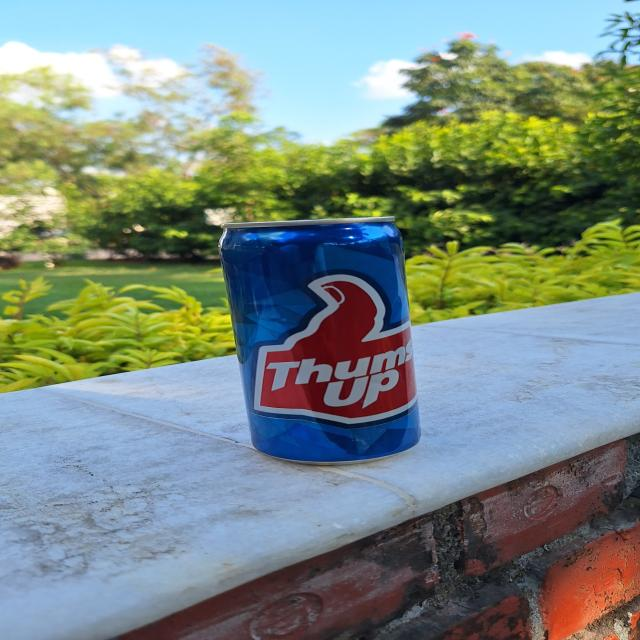Thums Up: (223, 218, 432, 466)
